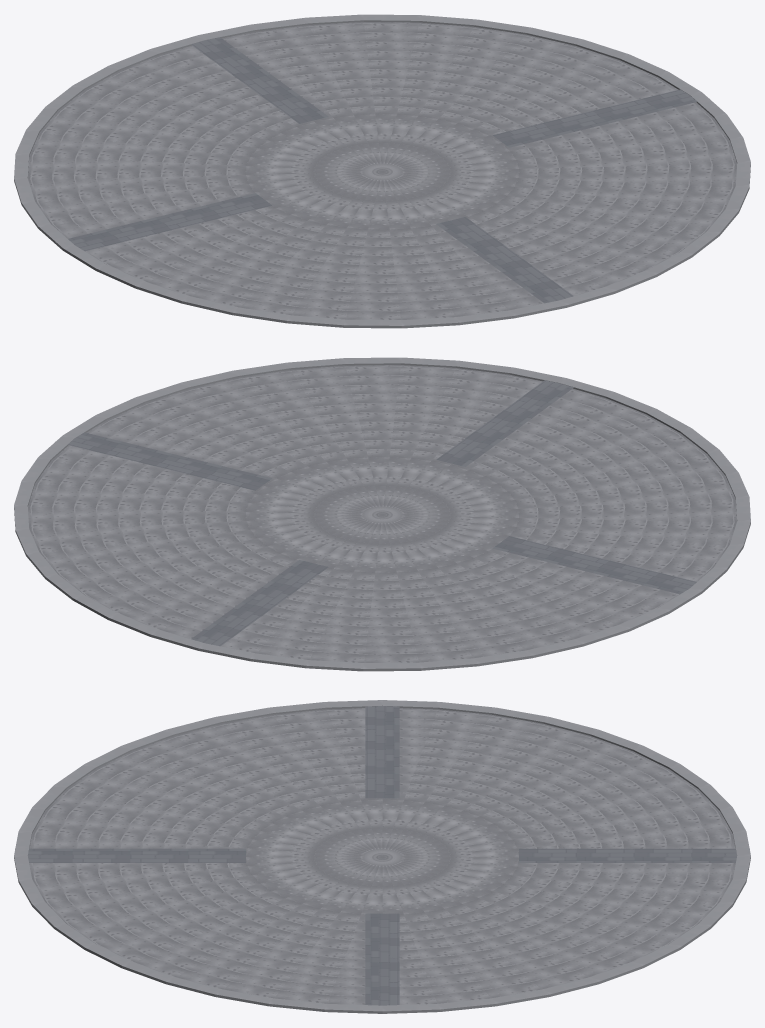
File: village_small_base.glb
3 views of the same model, one above another, from view 1: azimuth 30°, elevation 25°; view 2: azimuth 150°, elevation 25°; view 3: azimuth 270°, elevation 25° (orthographic).
Parts seen in each view (by area): view 1: ae_snow_village_small_base; view 2: ae_snow_village_small_base; view 3: ae_snow_village_small_base.
Part boxes in pixels (left/top/right/bottom): ae_snow_village_small_base: left=14, top=14, right=750, bottom=328; ae_snow_village_small_base: left=14, top=357, right=750, bottom=671; ae_snow_village_small_base: left=14, top=700, right=750, bottom=1013.
Size of the model in its own units: 1.61 by 0.00608 by 1.61.
1 material, 1 textured.
